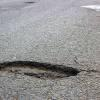crack: (72, 50, 100, 80)
pothole: (0, 55, 79, 86)
